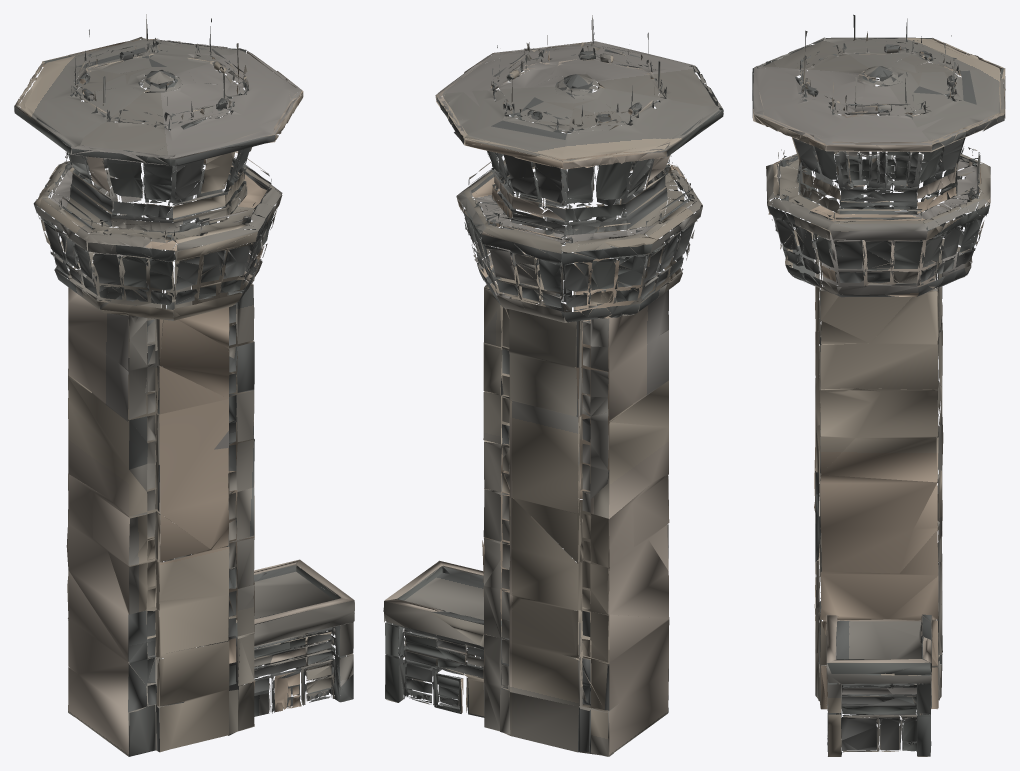
Rendered from tower.glb.
3 renders of one model, left to right at view 1: azimuth 30°, elevation 25°; view 2: azimuth 150°, elevation 25°; view 3: azimuth 270°, elevation 25°, orthographic. The views are drawn at different scales.
Parts seen in each view (by area): view 1: LO.001; view 2: LO.001; view 3: LO.001.
Boxes of the visible parts, x1=… form: LO.001: x1=14, y1=14, x2=354, y2=756; LO.001: x1=383, y1=15, x2=723, y2=756; LO.001: x1=752, y1=14, x2=1005, y2=756.
Bounding box in the file's own units: 0.837 × 1.89 × 0.6779.
1 material, 1 textured.
